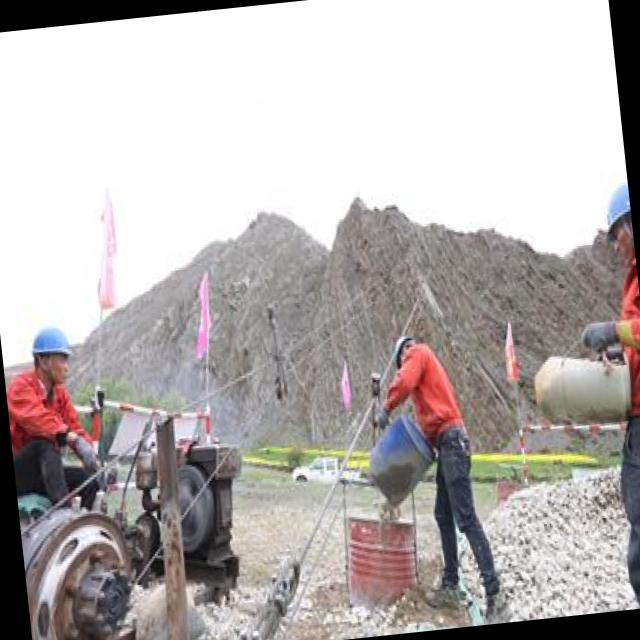helmet: (592, 166, 636, 272), (22, 316, 82, 393), (386, 328, 418, 378)
